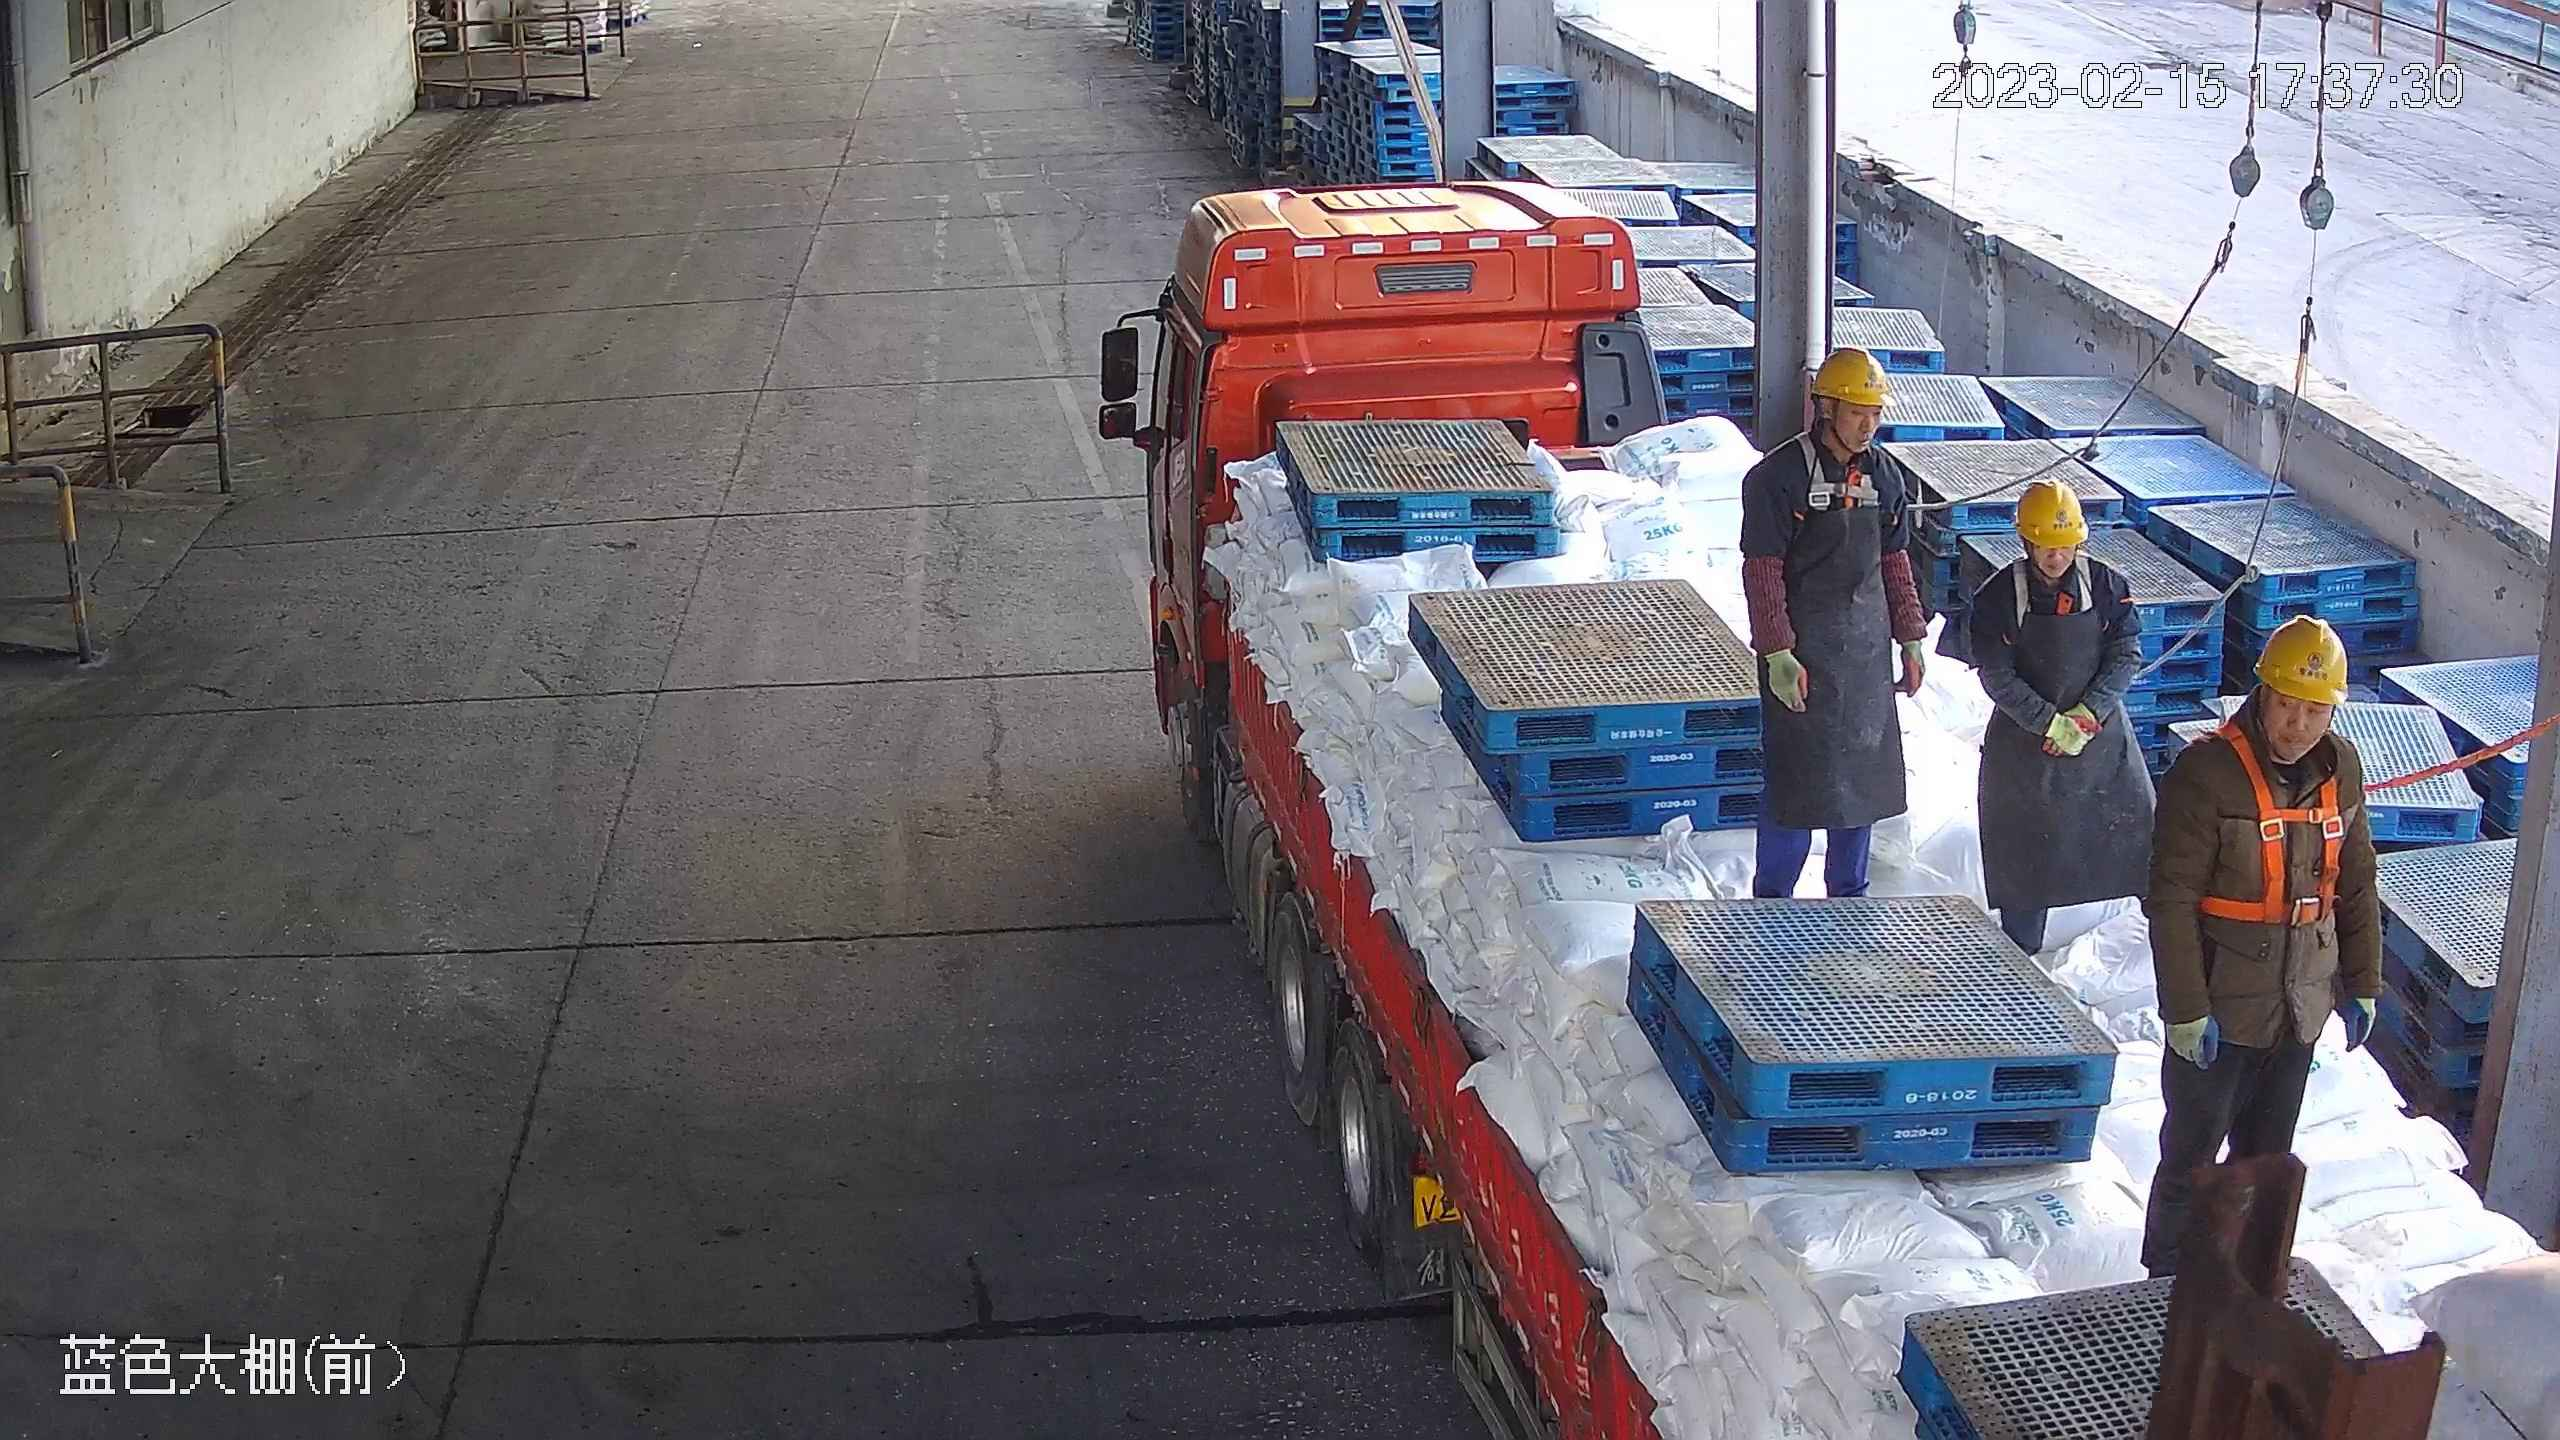belt: (2199, 720, 2361, 934), (1999, 551, 2116, 629), (1796, 431, 1881, 518)
head: (2174, 621, 2378, 826), (1968, 473, 2148, 647), (1742, 347, 1918, 520)
helmet: (2253, 612, 2352, 707), (2001, 470, 2109, 555), (1818, 345, 1892, 416)
people: (2142, 618, 2390, 1276), (1738, 345, 1933, 916), (1962, 470, 2165, 986)
truck: (1094, 186, 2560, 1440)
